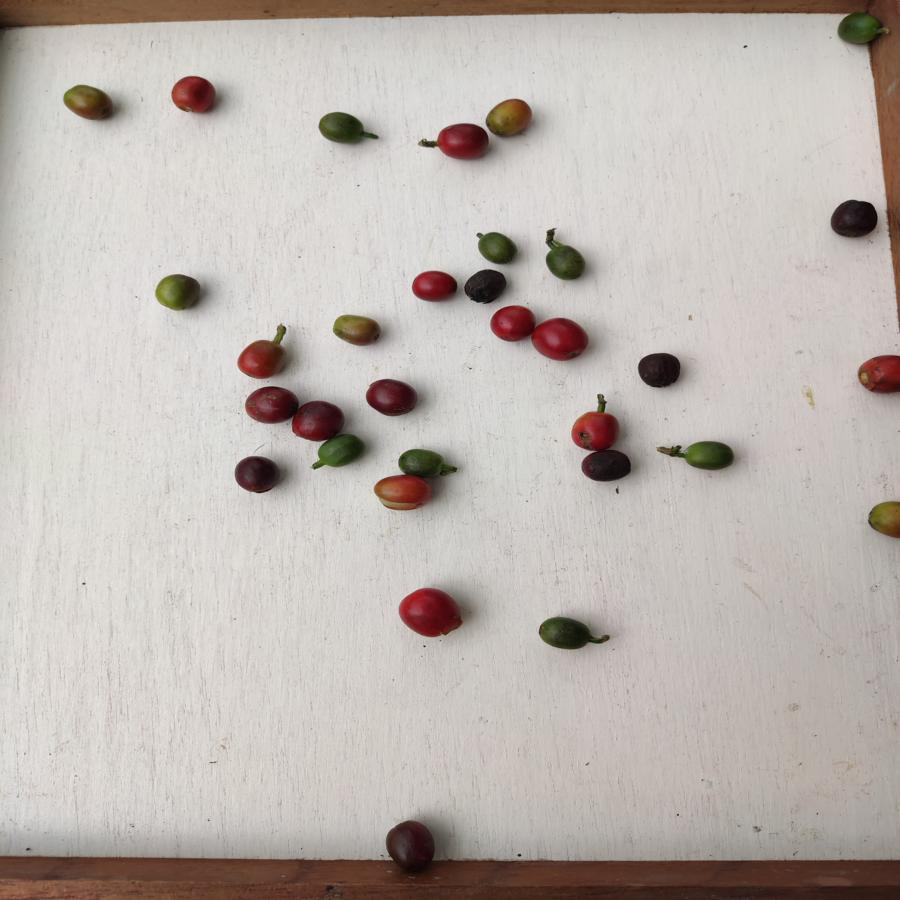Inmaduro: (536, 613, 591, 652), (829, 10, 882, 48), (311, 110, 367, 145), (542, 239, 585, 283), (395, 444, 449, 478), (679, 440, 732, 473), (317, 436, 365, 470), (475, 229, 519, 266)
Maduro: (397, 587, 469, 640), (531, 315, 591, 362), (569, 408, 621, 452), (167, 73, 223, 112), (433, 121, 490, 159), (856, 353, 900, 395), (412, 269, 460, 303), (491, 304, 535, 341)
Pinton: (61, 83, 115, 122), (484, 96, 535, 136), (329, 312, 381, 351), (374, 476, 433, 510), (155, 271, 202, 312), (867, 498, 900, 545)
Sobremaduro: (386, 817, 436, 869), (230, 448, 283, 495), (245, 384, 298, 426), (635, 348, 685, 390), (829, 199, 880, 240), (291, 399, 343, 439), (365, 377, 415, 417), (579, 448, 635, 482), (462, 268, 508, 303)
